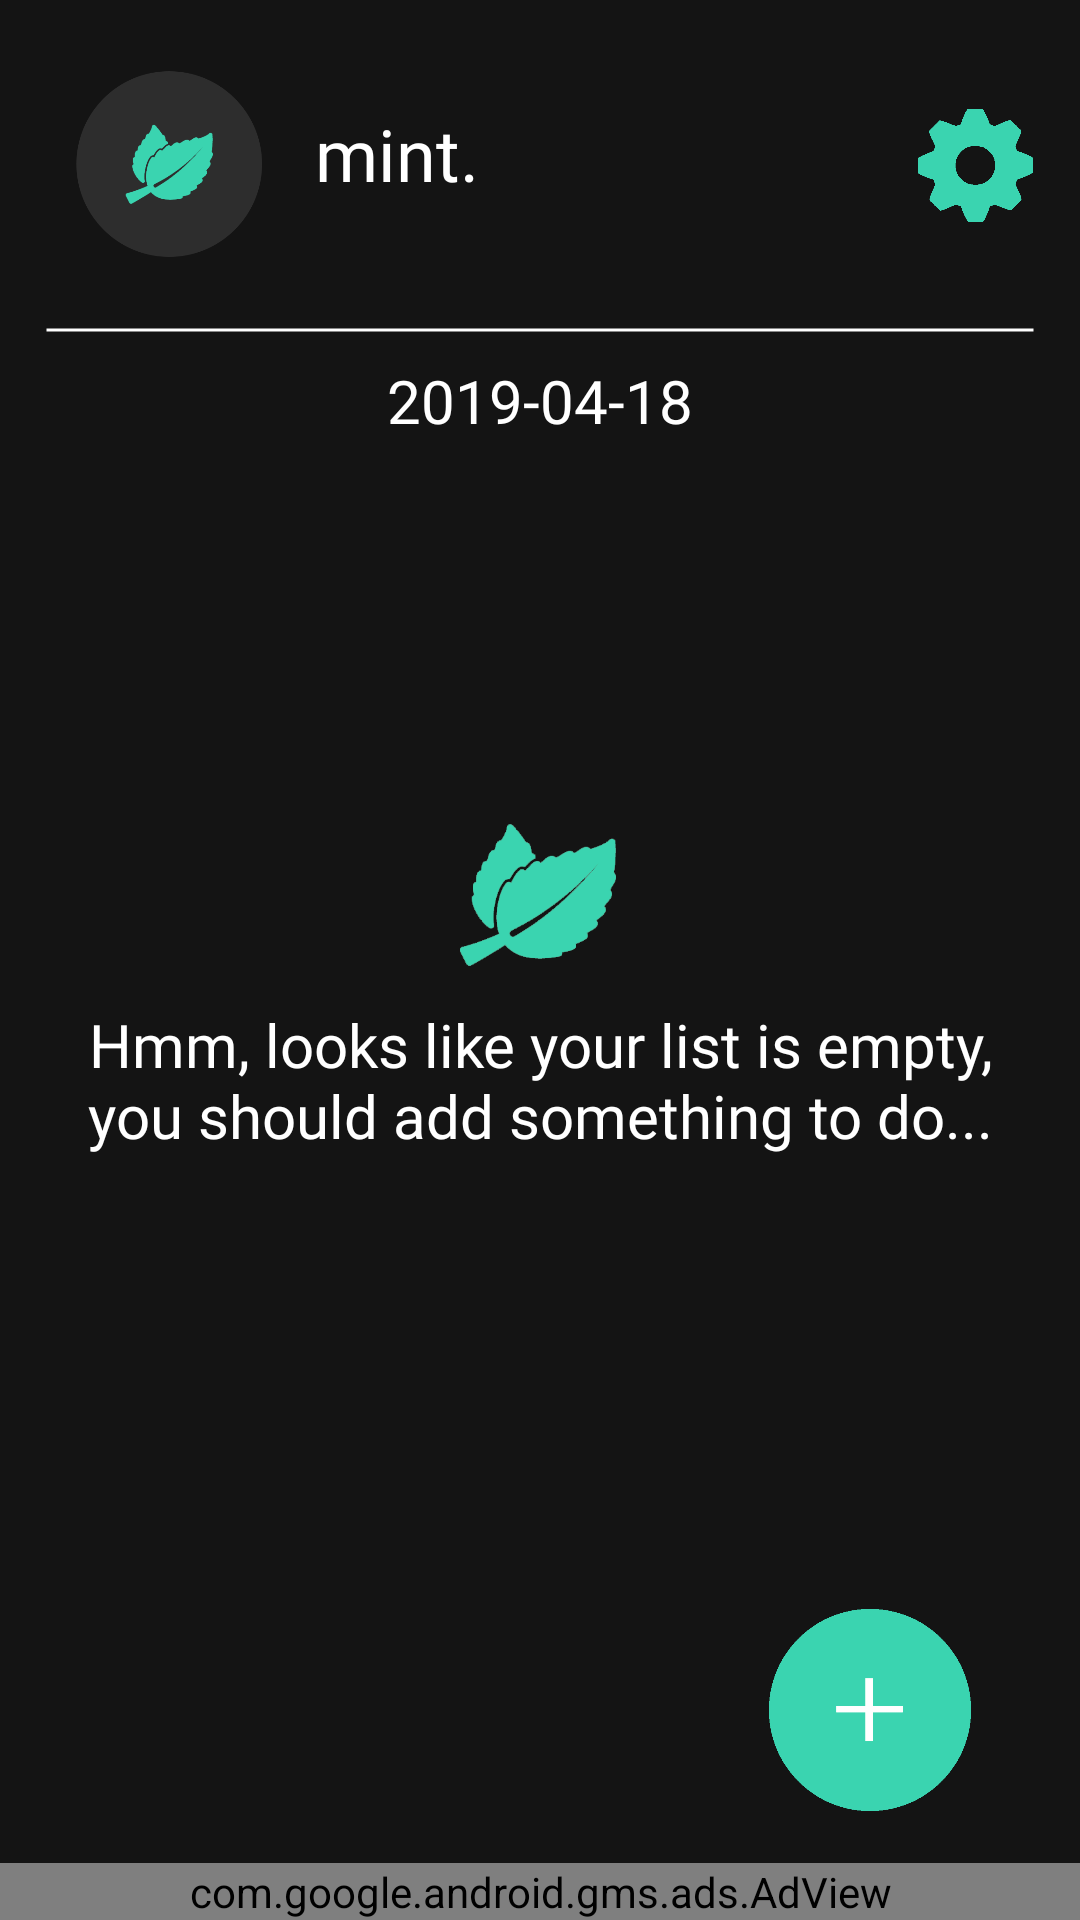

Locate icon controls on the screen. Image size 1080px x 1920px, boxes as [x1, y1, x2, y2].
plus add todo: [769, 1609, 971, 1811]
settingsicon: [918, 109, 1033, 222]
